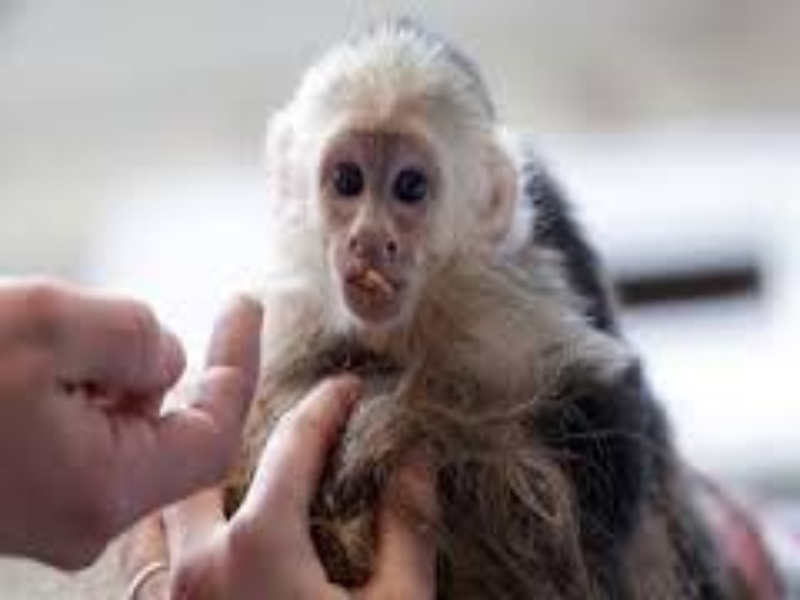monkey: (261, 18, 635, 508)
